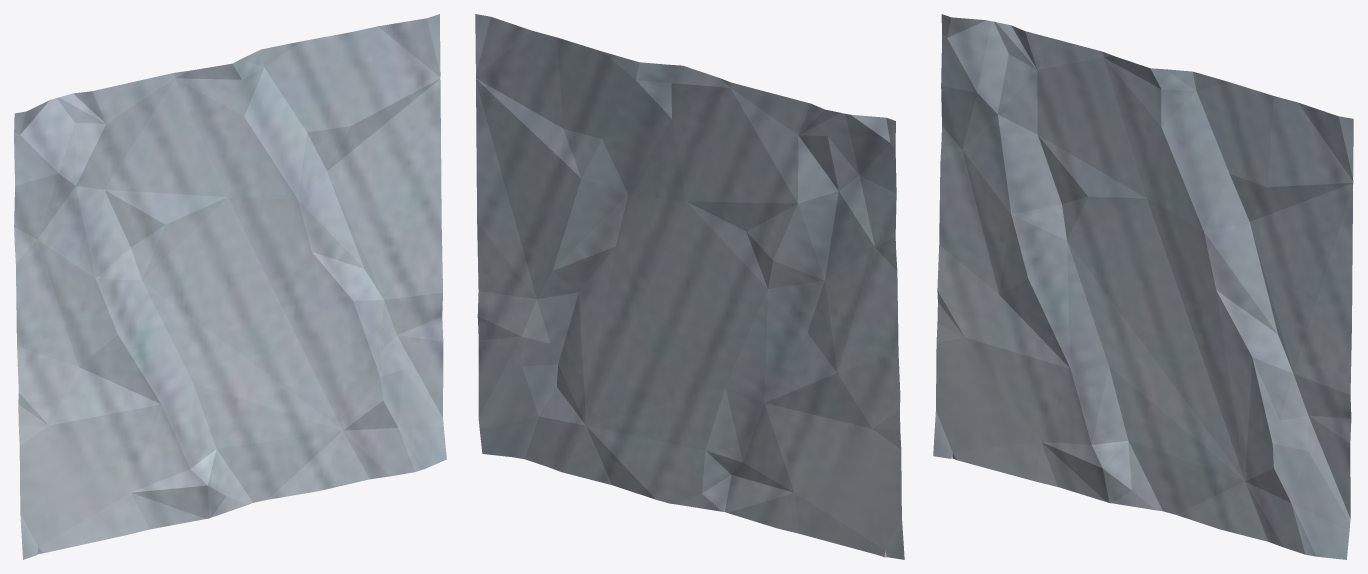
Rendered from Tile_+001_+007_L24_0021210.obj.
3 renders of one model, left to right at view 1: azimuth 30°, elevation 25°; view 2: azimuth 150°, elevation 25°; view 3: azimuth 330°, elevation 25°, orthographic. The views are drawn at different scales.
Size of the model in its own units: 0.9531 by 0.9531 by 0.088.
1 material, 1 textured.
